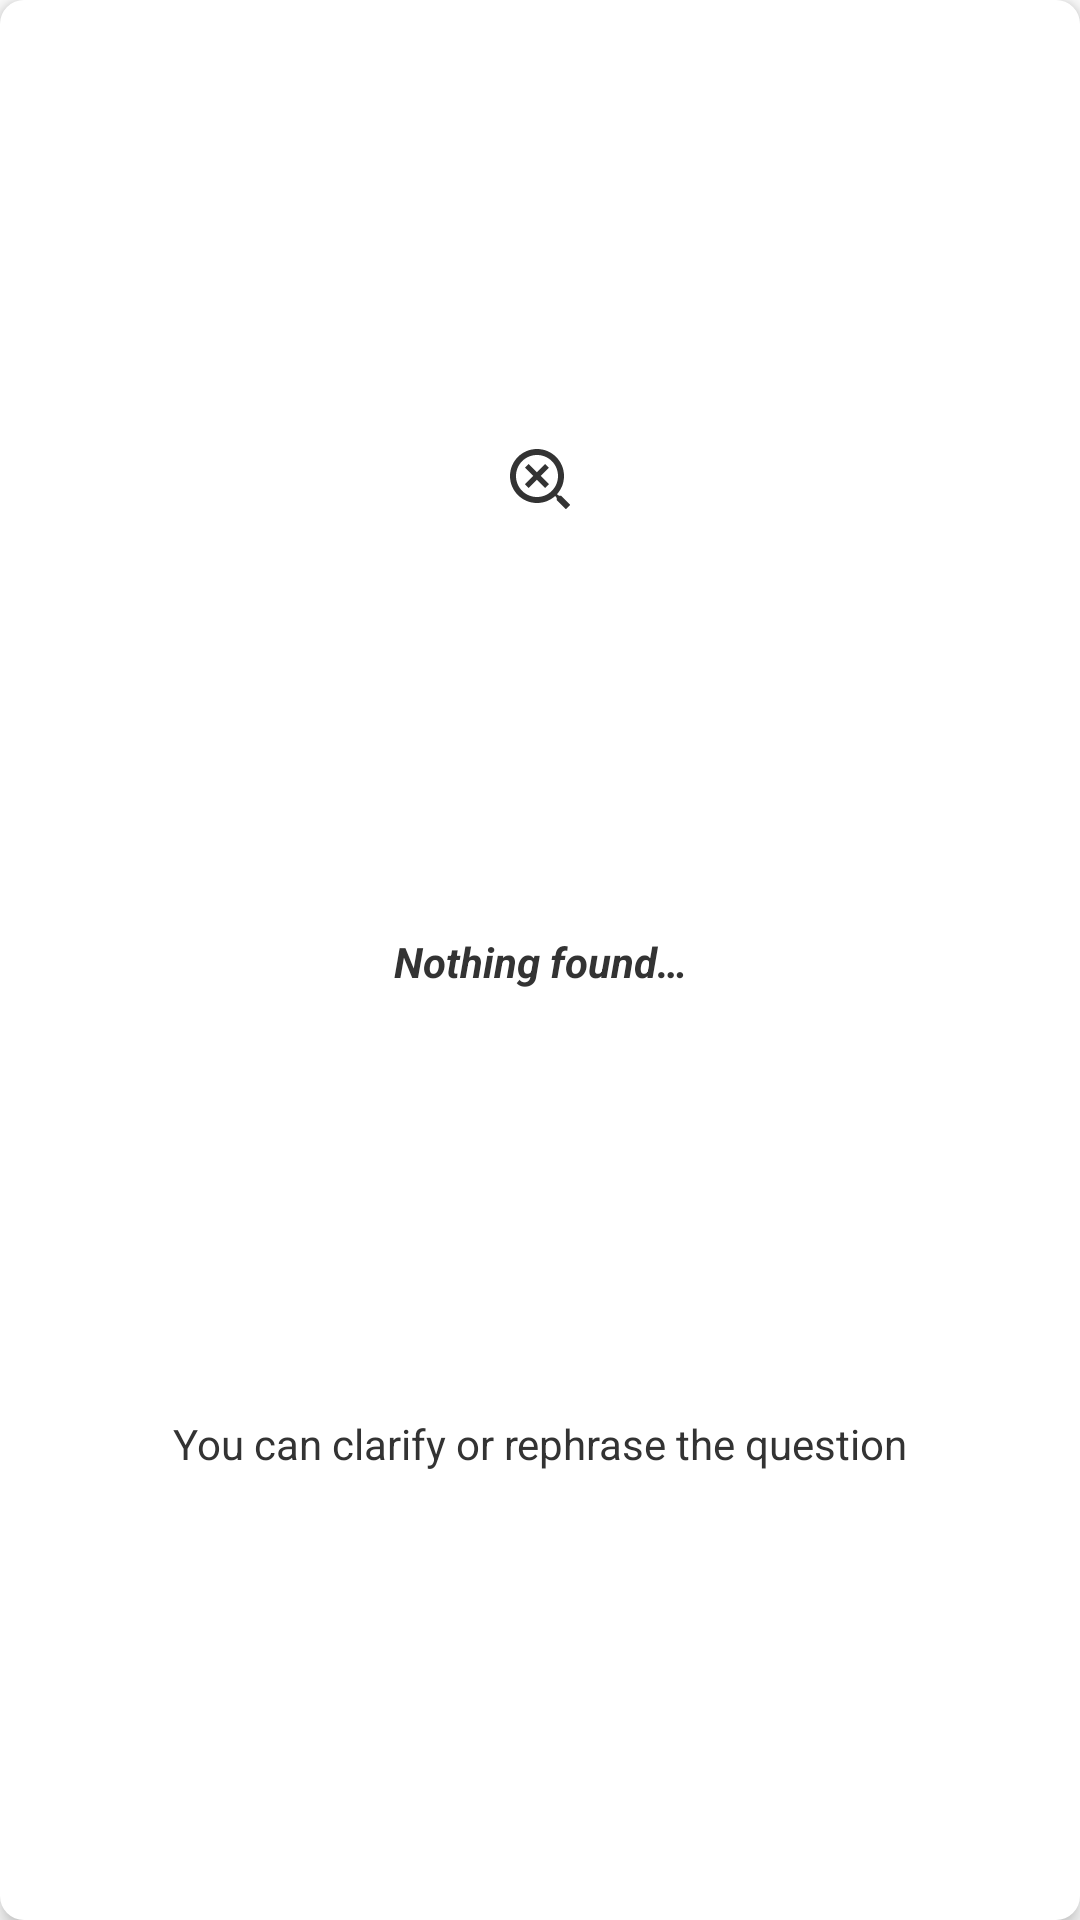

Screen size 1080 x 1920. Icon name, then its center in pixels as (x,y):
nothing found: (540,479)
